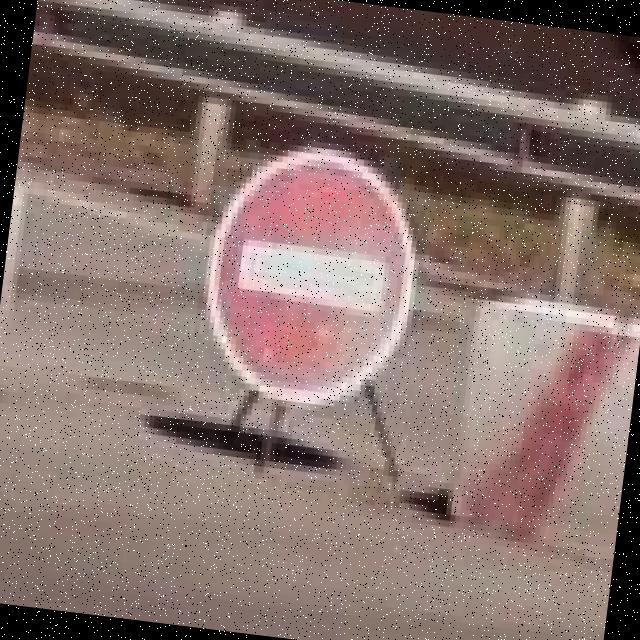Zakaz wjazdu: (190, 136, 430, 420)
